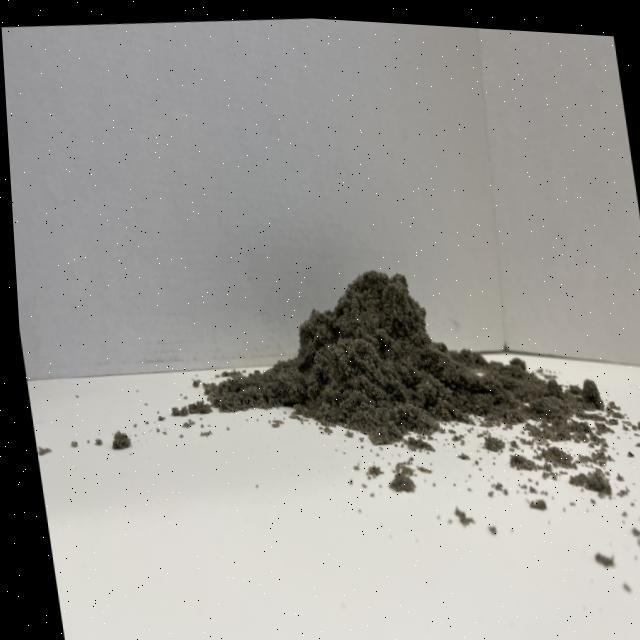sand: (194, 227, 589, 461)
